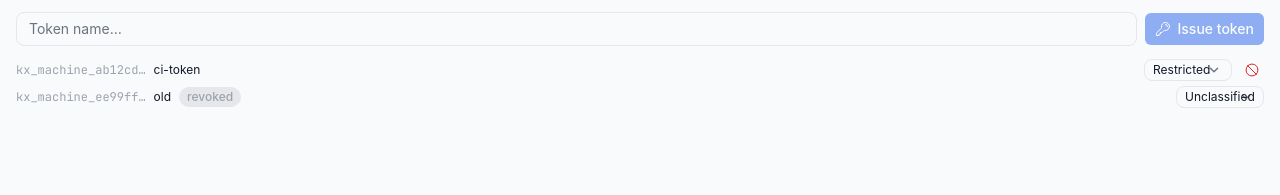
MachineTokensPanel › shows the error.error field fallback when reclassifying fails
Select "Confidential" in the dropdown named "Classification for token kx_machine_ab12cd" at (1188, 70), box left=1144, top=59, right=1232, bottom=81
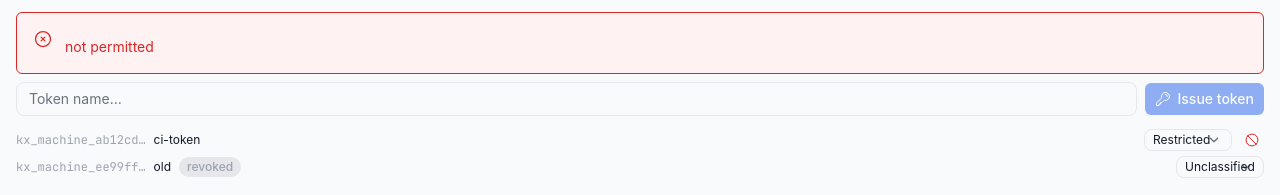
Check: the text "not permitted" is shown, box left=65, top=38, right=154, bottom=55
